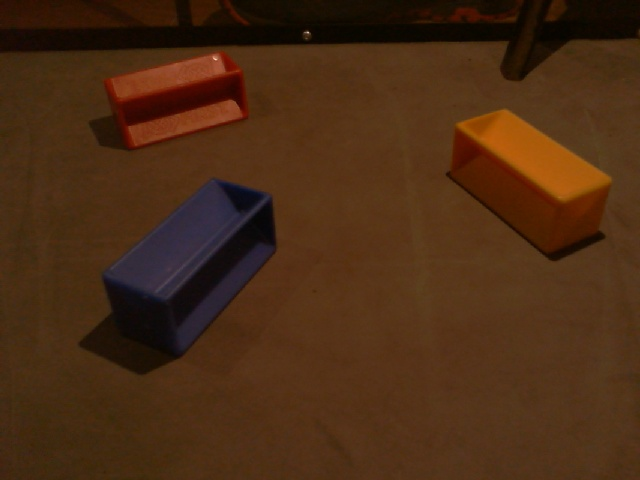BlueSample: (100, 175, 280, 362)
RedSample: (103, 49, 249, 152)
YellowSample: (448, 106, 616, 263)
